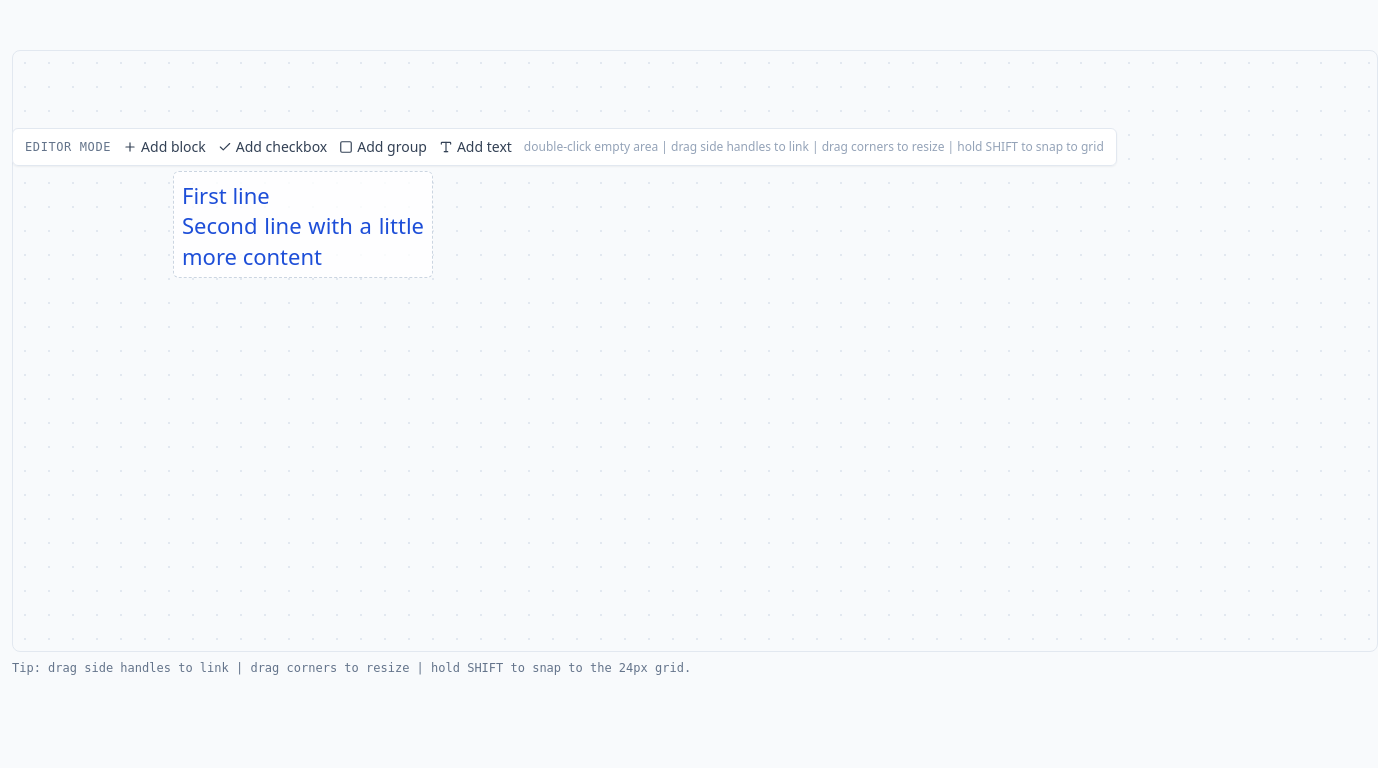
Test: RoadmapCanvas text blocks › shows add-text actions in editor toolbar and context menu
This screenshot has width=1378, height=768.
Expected: the button with test id "editor-add-text-btn" is shown, [439,137,512,157]
Right-click the element with test id "roadmap-canvas" at (695, 351), box [12,50,1377,652]
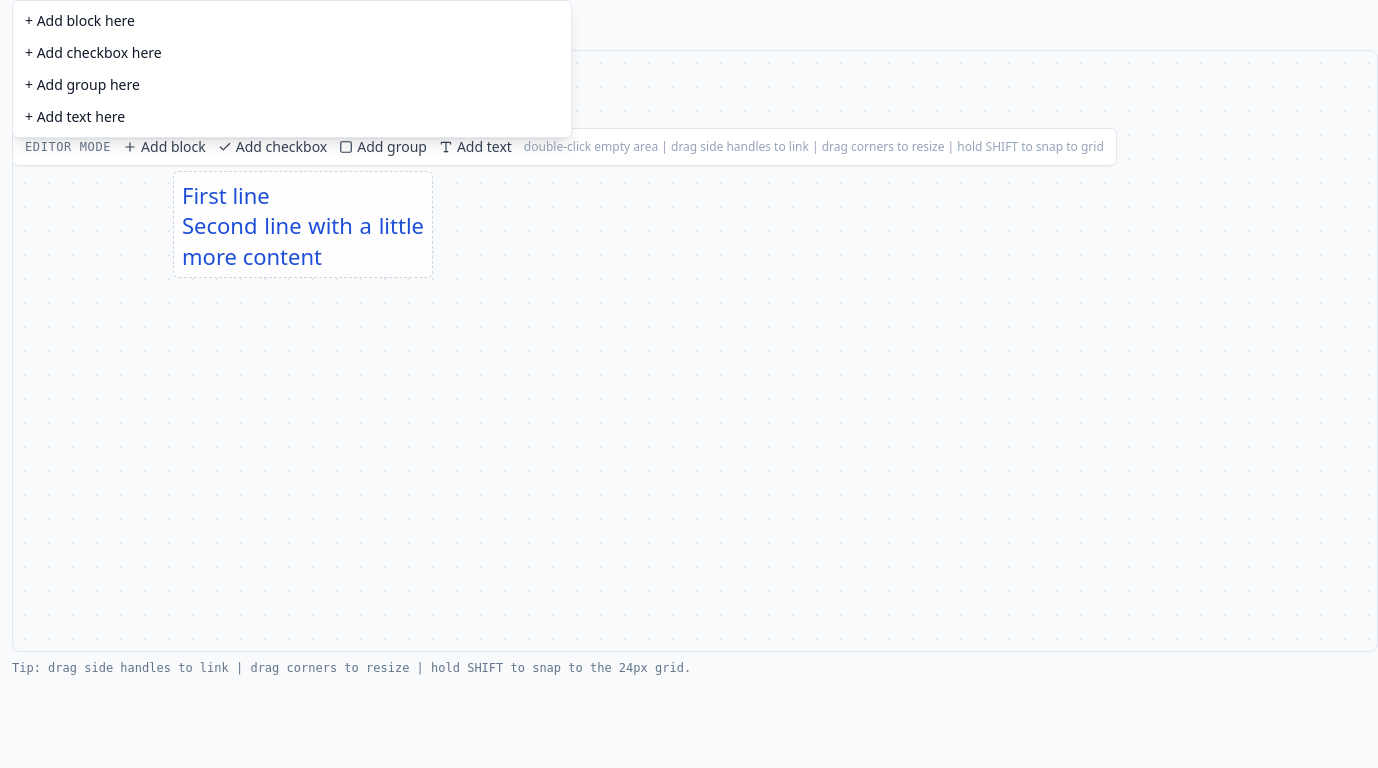
Expected: the button with test id "ctx-add-text" is shown, [13,101,571,133]
